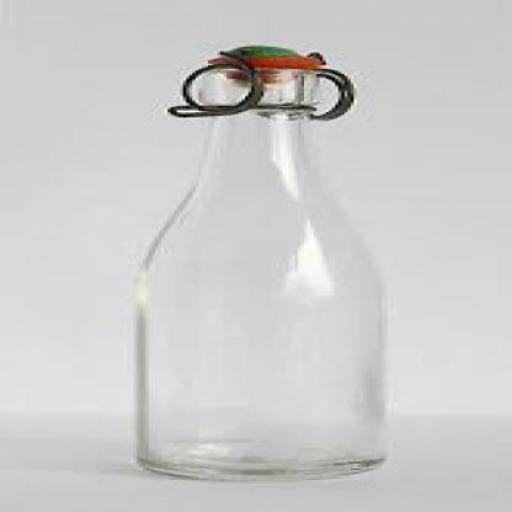glass: (130, 66, 388, 477)
